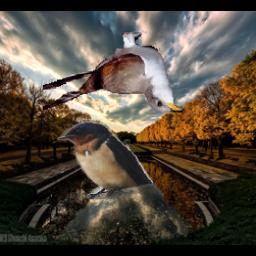Cuckoo: (43, 30, 184, 112)
Swallow: (57, 121, 153, 199)
